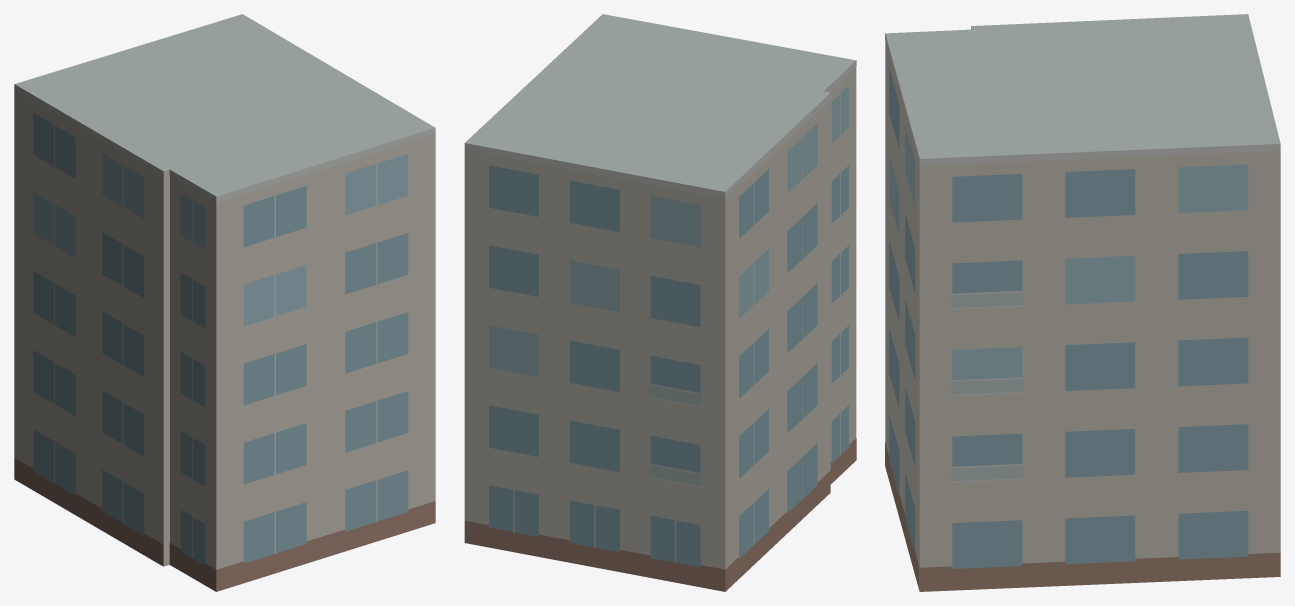
The model's file is survey-upis-33047190.glb.
3 views of the same model, side by side, from view 1: azimuth 30°, elevation 25°; view 2: azimuth 150°, elevation 25°; view 3: azimuth 270°, elevation 25° (orthographic). The views are drawn at different scales.
Parts seen in each view (by area): view 1: survey-upis-33047190.tmp; view 2: survey-upis-33047190.tmp; view 3: survey-upis-33047190.tmp.
Boxes of the visible parts, x1,y1,x2,y2 form: survey-upis-33047190.tmp: [14, 14, 435, 591]; survey-upis-33047190.tmp: [464, 14, 856, 591]; survey-upis-33047190.tmp: [885, 14, 1280, 591].
Size of the model in its own units: 11 by 15.31 by 12.69.
